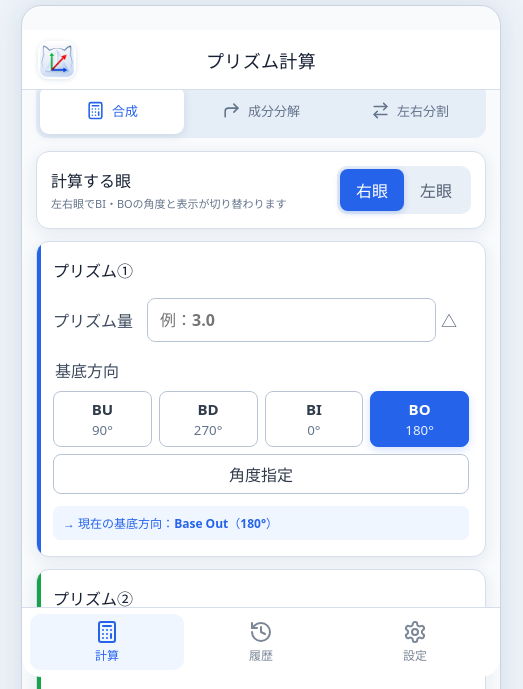
Test: CalculatorPage › 左右分割の詳細に右眼と左眼のベクトル図を表示する
Click the tab "左右分割" at (410, 110), box [338,86,482,134]
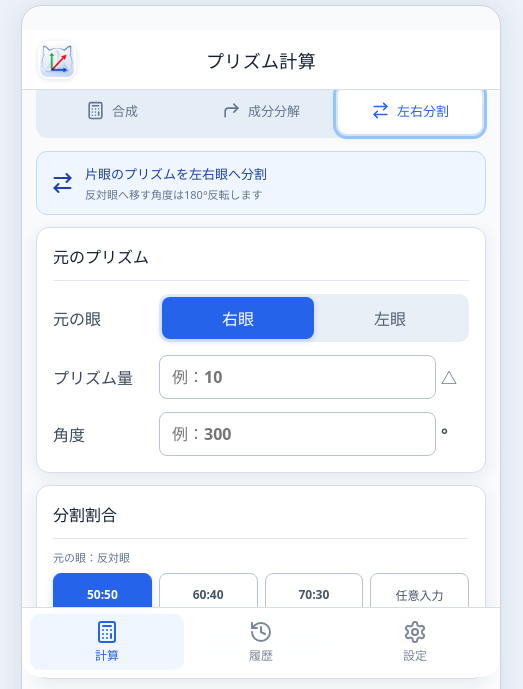
Type "10" into the number field named "分割するプリズム量" at (298, 377), box [159,355,436,399]
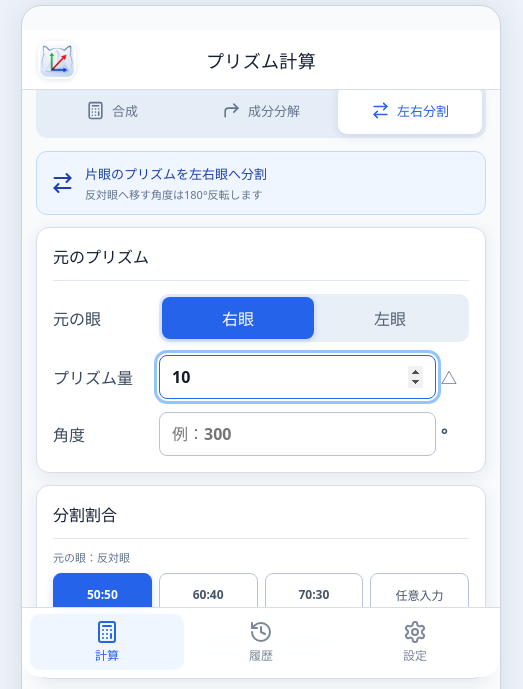
Type "300" into the number field named "分割する角度" at (298, 434), box [159,412,436,456]
(page scrolled)
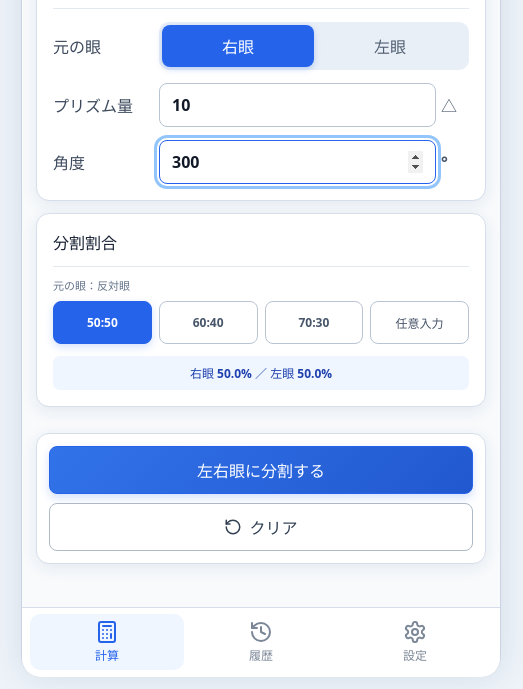
Click the button "左右眼に分割する" at (261, 470), box [49,446,473,494]
(page scrolled)
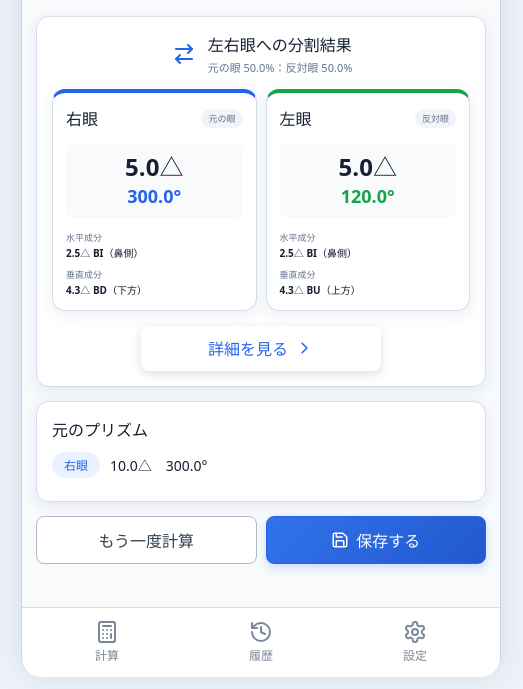
Click the button "詳細を見る" at (261, 348), box [141,326,381,371]
(page scrolled)
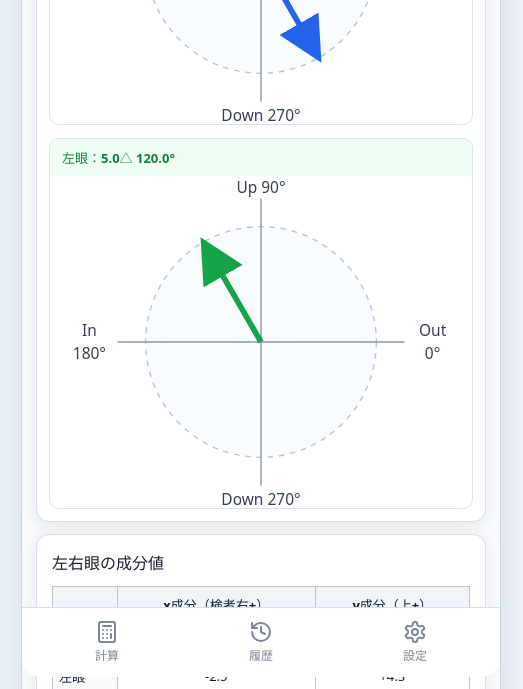
Expected: the picture named "左眼の分割プリズムベクトル図" is shown, [50,176,472,508]
